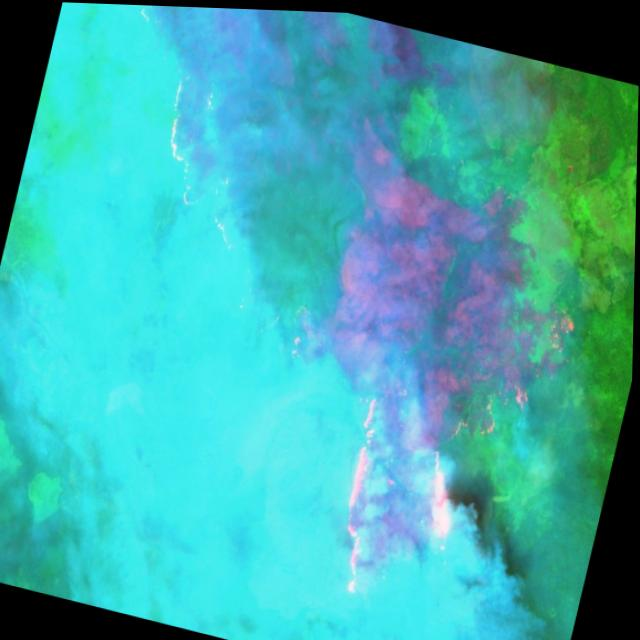fire: (312, 249, 584, 640), (84, 3, 304, 263)
